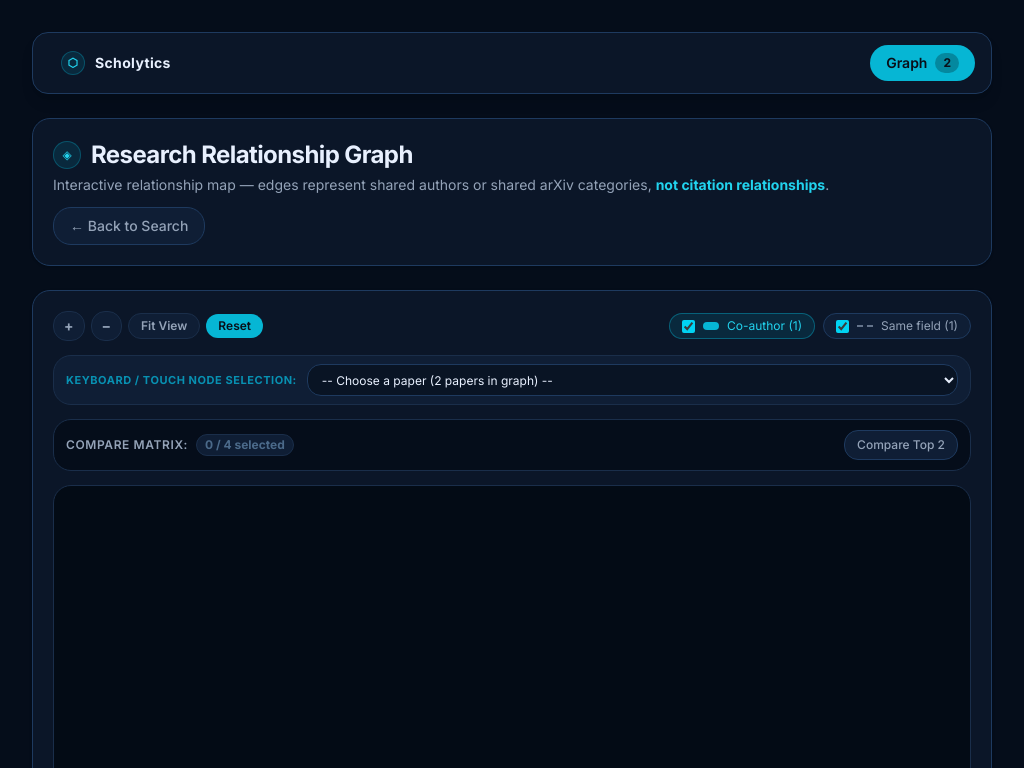
Test: Research Graph Page Workflows › supports selecting papers for comparison and generating comparison matrix on the graph view
This screenshot has width=1024, height=768.
Click the button "Compare Top 2" at (901, 445), box [844, 430, 958, 460]
(page scrolled)
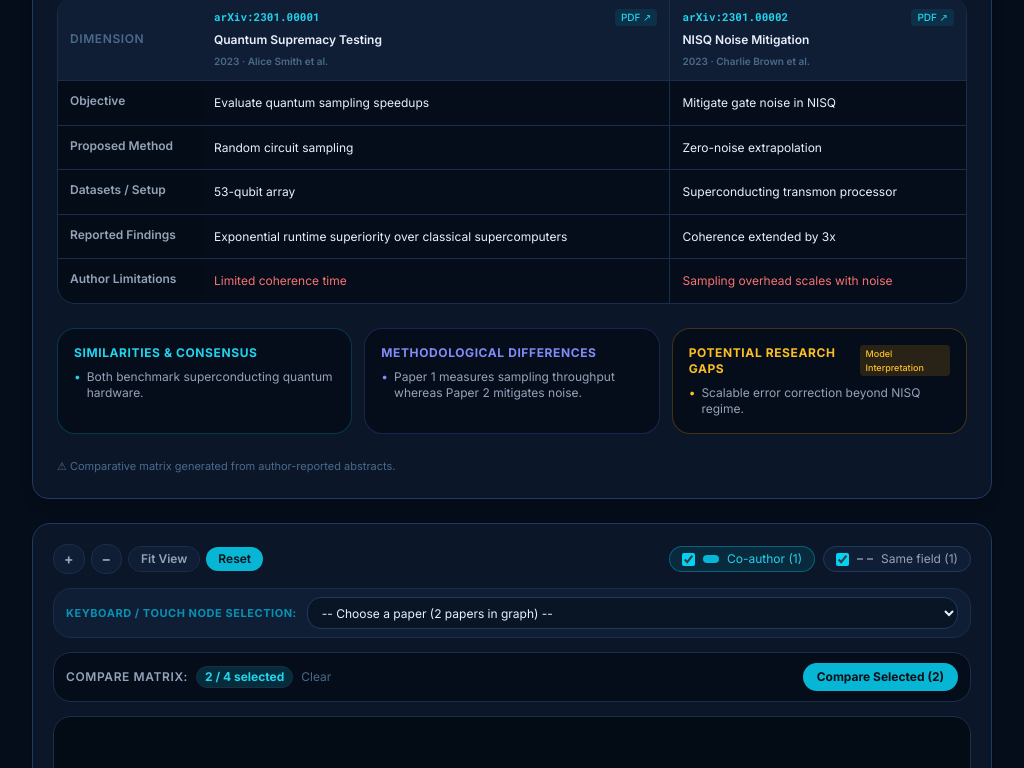
expect the text "Evaluate quantum sampling speedups" is shown: met, box [202, 81, 670, 125]
expect the text "Mitigate gate noise in NISQ" is shown: met, box [670, 81, 966, 125]
expect the text "Both benchmark superconducting quantum hardware." is shown: met, box [87, 369, 335, 401]
